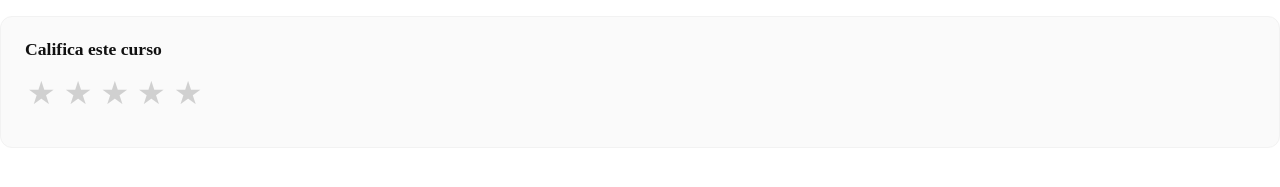
it: RatingSection › Interacción — calificar › deshabilita los botones mientras guarda
Click the button named "Calificar con 3 estrellas" at coordinates (115, 93), box [98,75,131,111]
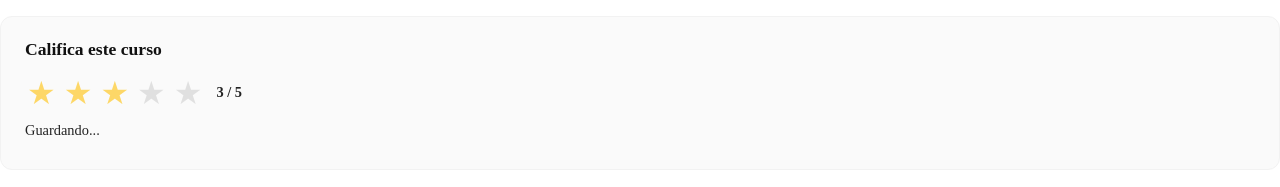
Expected: the 1st button "★" is disabled, [25,75,58,111]
Expected: the 2nd button "★" is disabled, [62,75,94,111]
Expected: the 3rd button "★" is disabled, [98,75,131,111]
